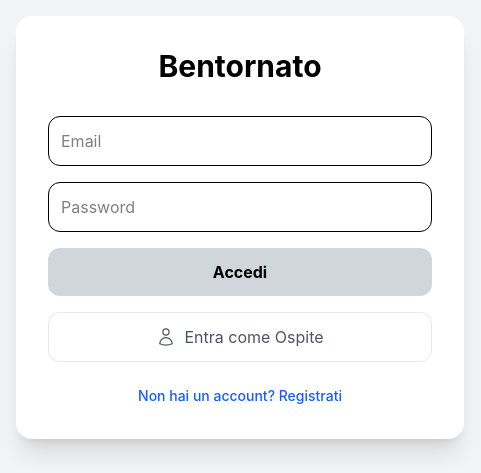
it: AuthScreen › bottone abilitato quando email e password sono compilati
Type "test@example.com" into the field with placeholder "Email".
click(240, 140); type("test@example.com")  # box 48,116 -> 432,166
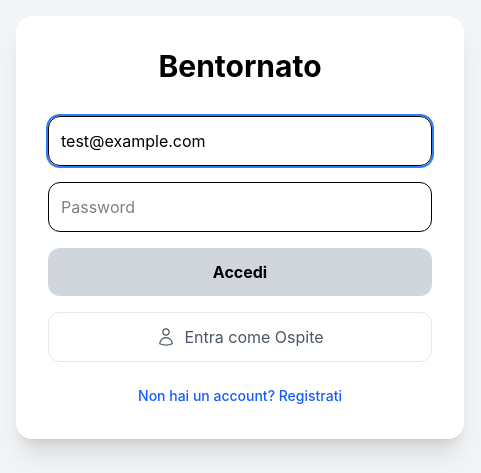
Type "Password123" into the password field with placeholder "Password".
click(240, 206); type("Password123")  # box 48,182 -> 432,232
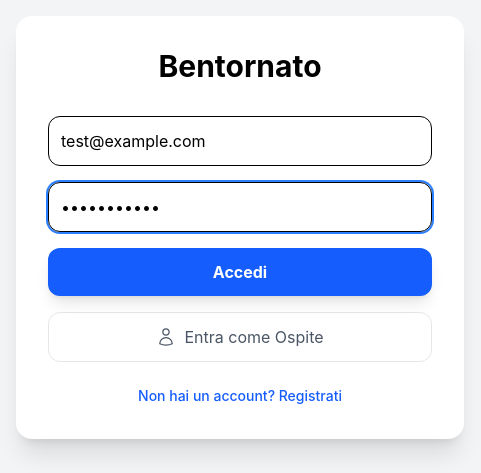
Now the button "Accedi" is enabled, box 48,248 -> 432,296
